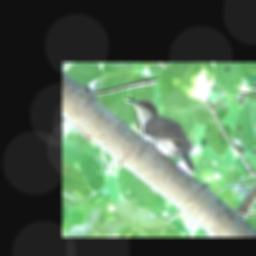Cuckoo: (124, 97, 197, 174)
